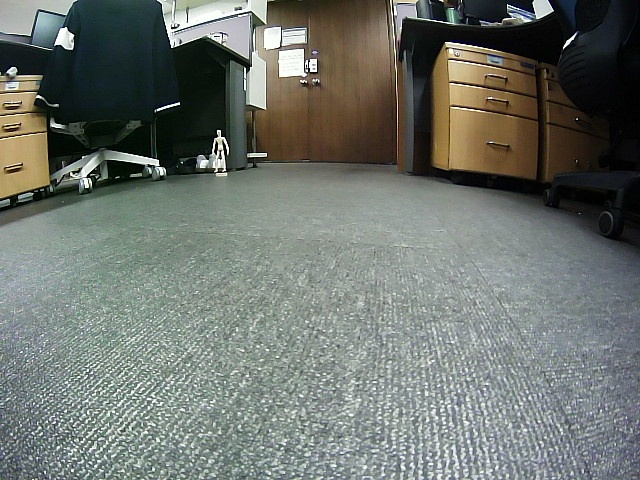person: (211, 130, 230, 172)
